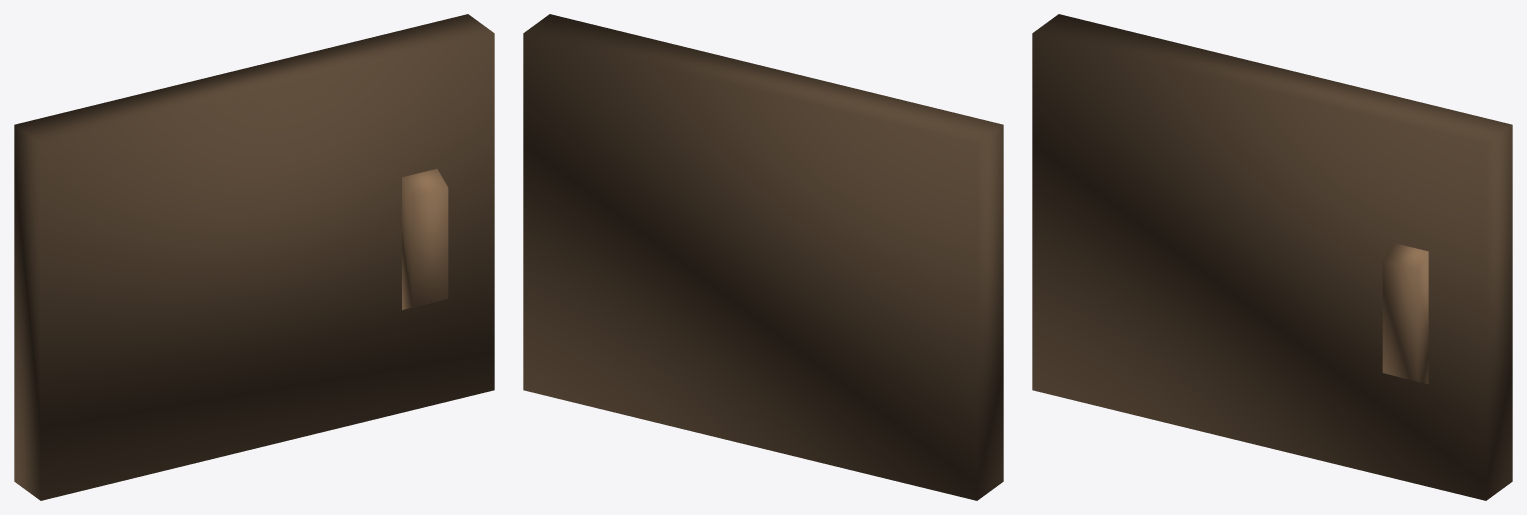
Rendered from TVDoorLeft_Livingroom_V1.fbx.
3 views of the same model, side by side, from view 1: azimuth 30°, elevation 25°; view 2: azimuth 150°, elevation 25°; view 3: azimuth 330°, elevation 25° (orthographic).
Visible parts, largest first — view 1: Cube.003, Cube.005; view 2: Cube.003; view 3: Cube.003, Cube.005.
Boxes of the visible parts, left/top/right/bottom form: Cube.003: left=14, top=14, right=494, bottom=500; Cube.005: left=402, top=169, right=448, bottom=309; Cube.003: left=523, top=14, right=1003, bottom=500; Cube.003: left=1032, top=14, right=1512, bottom=500; Cube.005: left=1382, top=243, right=1428, bottom=384.
Size of the model in its own units: 82.68 by 62.11 by 11.82.
